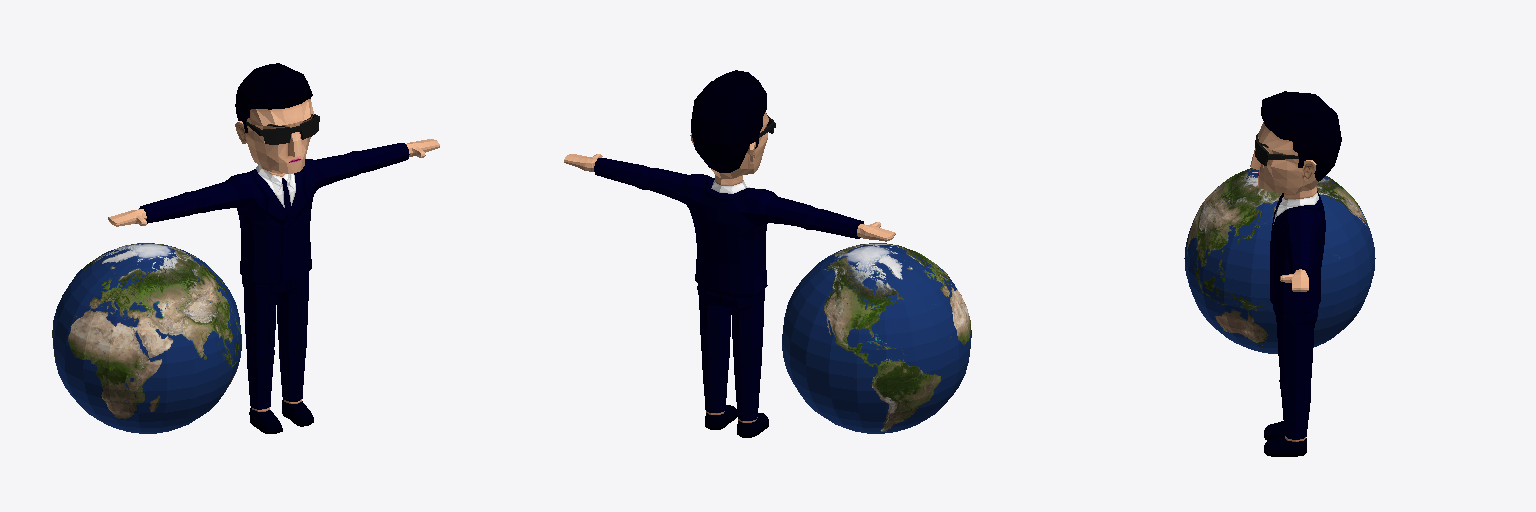
The picture shows the model from 3 angles: view 1: azimuth 30°, elevation 25°; view 2: azimuth 150°, elevation 25°; view 3: azimuth 270°, elevation 25°; orthographic projection.
Parts seen in each view (by area): view 1: py, pSphere1; view 2: pSphere1, py; view 3: pSphere1, py.
Part boxes in pixels (x1,y1,x2,y2): py: (108,63,439,433); pSphere1: (52,243,241,433); pSphere1: (782,243,971,433); py: (564,70,895,437); pSphere1: (1184,168,1375,353); py: (1250,91,1341,456).
Bounding box in the file's own units: 27.78 × 24.22 × 12.
Materials: 2 (2 with a texture image).